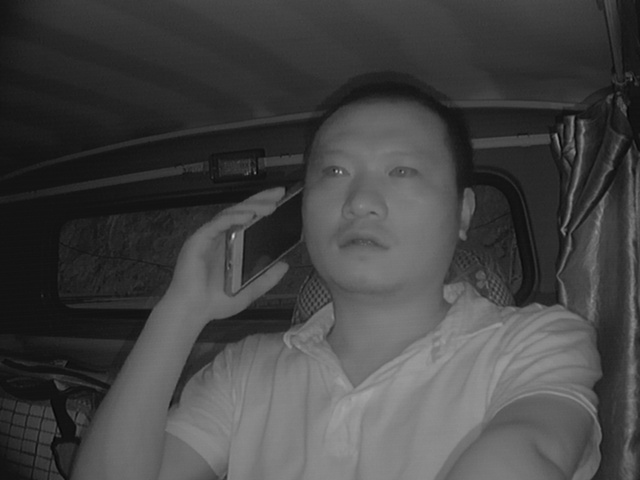hand: (173, 188, 289, 318)
